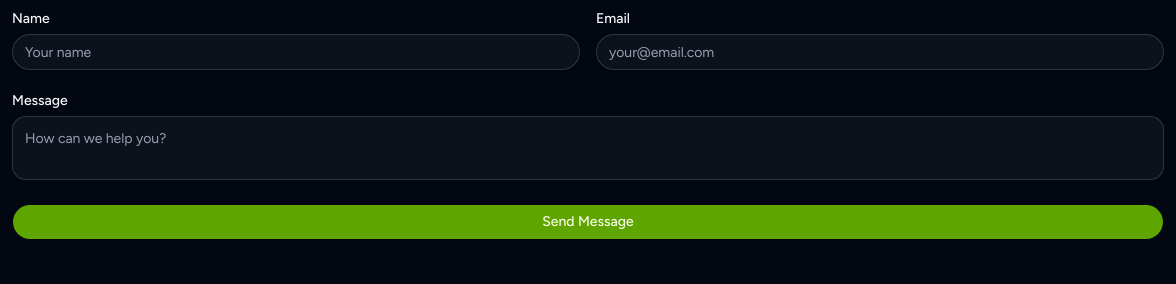
Test: ContactForm › shows validation errors on blur for invalid email
Type "invalid-email" into the field labelled "Email" at [880, 52], box [596,34,1164,70]
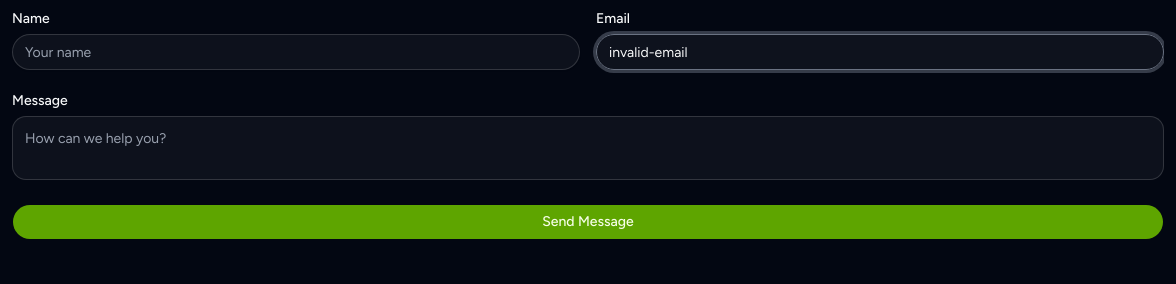
Press Tab
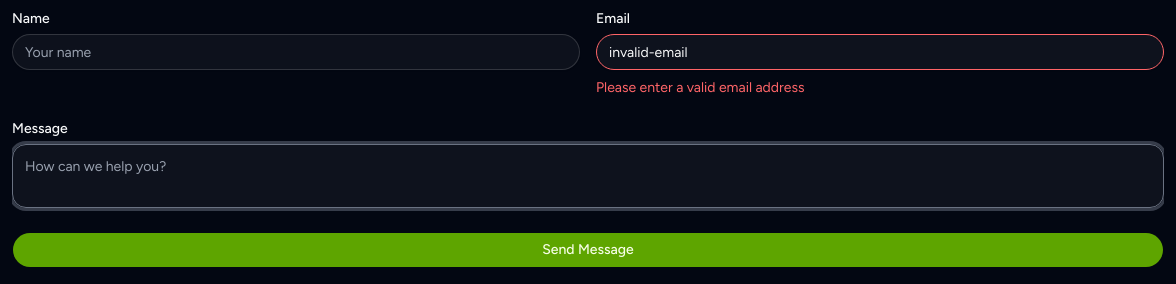
Now the text "Please enter a valid email address" is shown, box [596,79,804,96]
